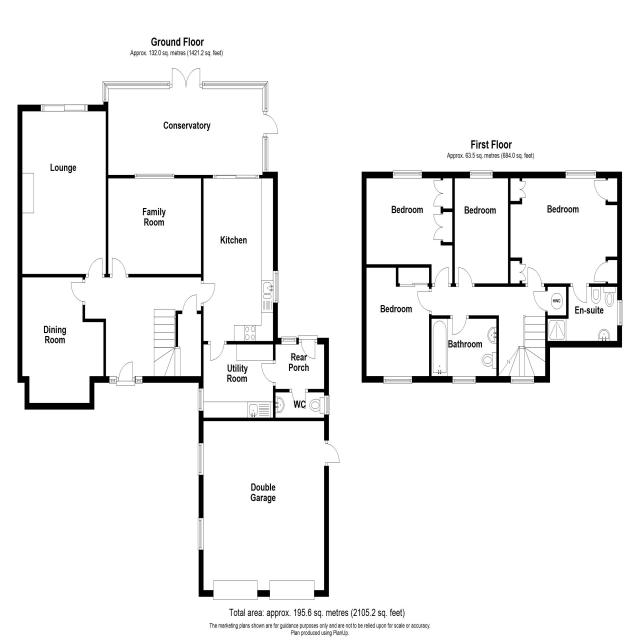DOOR: (300, 338, 316, 361), (181, 294, 198, 315), (200, 283, 216, 305), (209, 340, 225, 362), (263, 113, 279, 135), (87, 257, 103, 278), (70, 282, 86, 303), (325, 443, 340, 465), (291, 388, 306, 410), (417, 290, 432, 312), (533, 290, 548, 312), (593, 261, 608, 283), (593, 179, 608, 201), (527, 267, 543, 287), (112, 257, 127, 278), (118, 361, 133, 382), (261, 363, 276, 384), (452, 315, 467, 336), (572, 283, 587, 304), (434, 267, 449, 287), (458, 267, 473, 287)
DOUBLE DOOR: (171, 67, 201, 89)
ROOM: (17, 104, 109, 278), (508, 170, 622, 304), (200, 172, 278, 362), (17, 274, 106, 410), (361, 170, 455, 287), (105, 174, 204, 278), (361, 264, 432, 385), (452, 170, 511, 287), (197, 341, 276, 421)
WINDOW: (102, 81, 170, 90), (202, 81, 269, 90), (392, 170, 423, 179), (565, 170, 596, 179), (383, 375, 413, 384), (262, 136, 269, 173), (134, 173, 175, 179), (197, 442, 204, 476), (197, 517, 204, 551), (272, 270, 279, 304), (510, 375, 535, 384), (262, 80, 269, 112), (470, 170, 493, 179), (452, 376, 476, 384), (197, 388, 204, 412), (617, 300, 623, 326), (102, 81, 109, 103), (323, 395, 330, 416), (281, 336, 297, 345)
